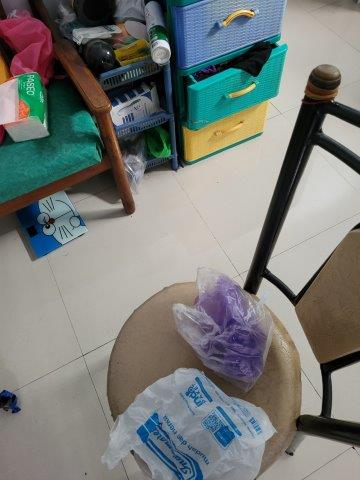plastik: (98, 367, 279, 480), (169, 270, 278, 388)
